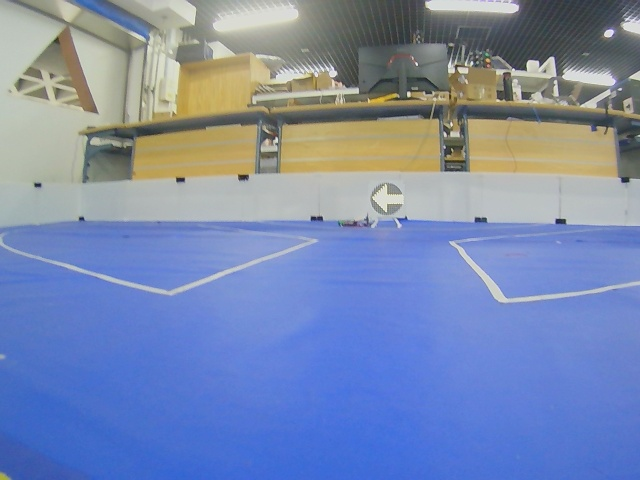left_yellow: (371, 183, 404, 215)
